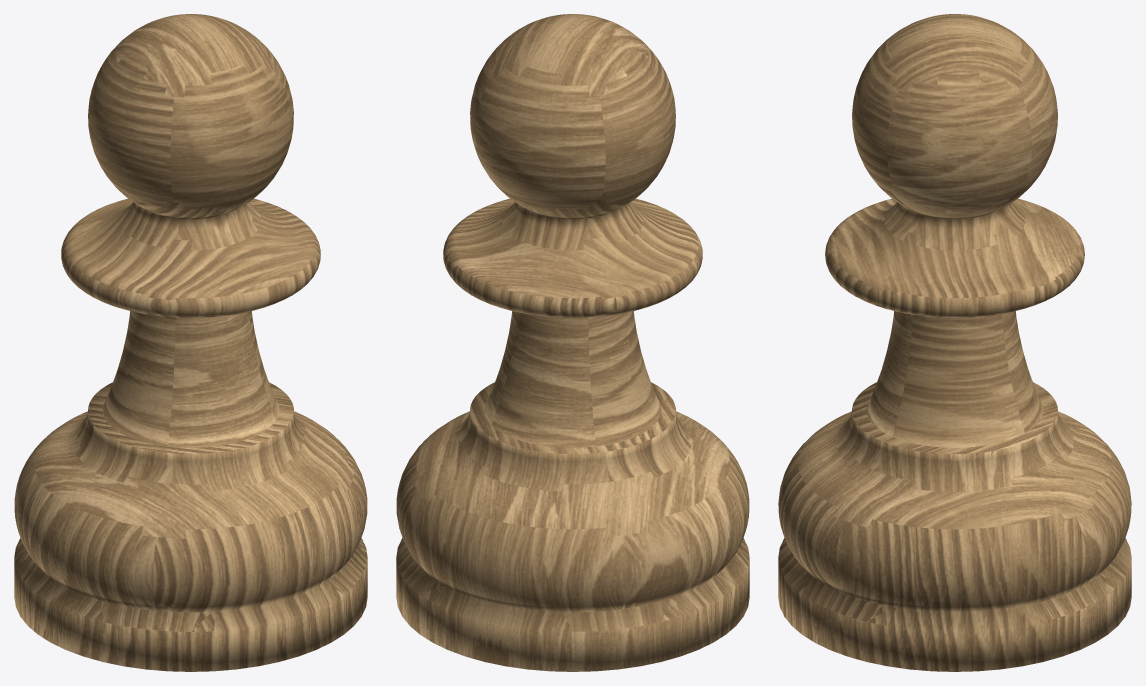
The model's file is w_pawn.glb.
3 views of the same model, side by side, from view 1: azimuth 30°, elevation 25°; view 2: azimuth 150°, elevation 25°; view 3: azimuth 270°, elevation 25° (orthographic).
Parts seen in each view (by area): view 1: Pawn; view 2: Pawn; view 3: Pawn.
Boxes of the visible parts, bbox=[...] form: Pawn: bbox=[14, 14, 367, 671]; Pawn: bbox=[396, 14, 749, 671]; Pawn: bbox=[778, 14, 1131, 671].
Size of the model in its own units: 24 by 43 by 24.
Materials: 1 (1 with a texture image).
